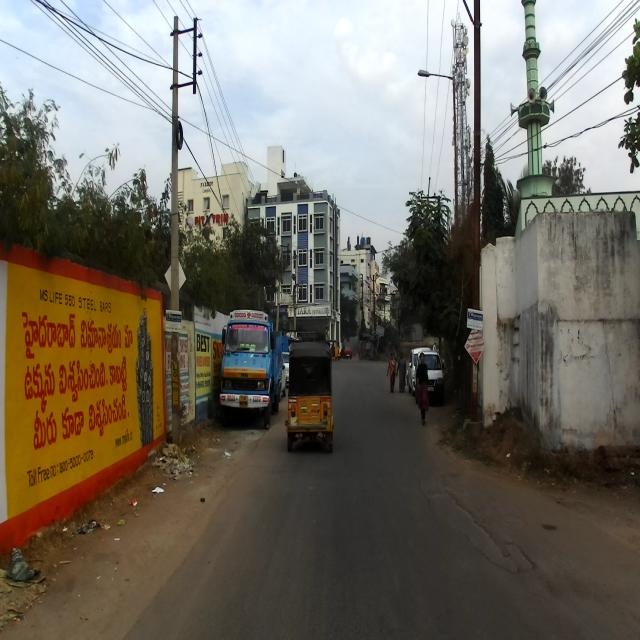auto ahead at: (287, 334, 337, 466)
electric pole ahead at: (160, 5, 210, 452)
truck ahead at: (215, 307, 287, 436)
